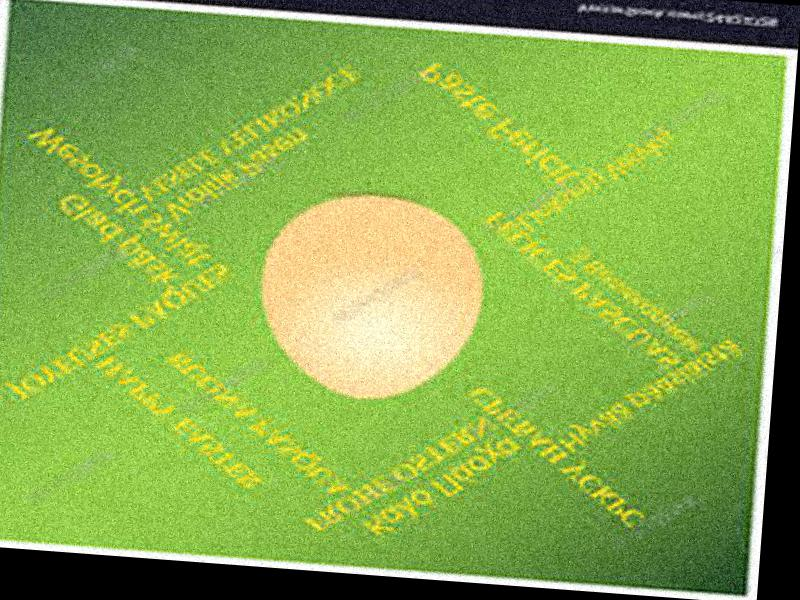Eggs: (257, 190, 489, 401)
